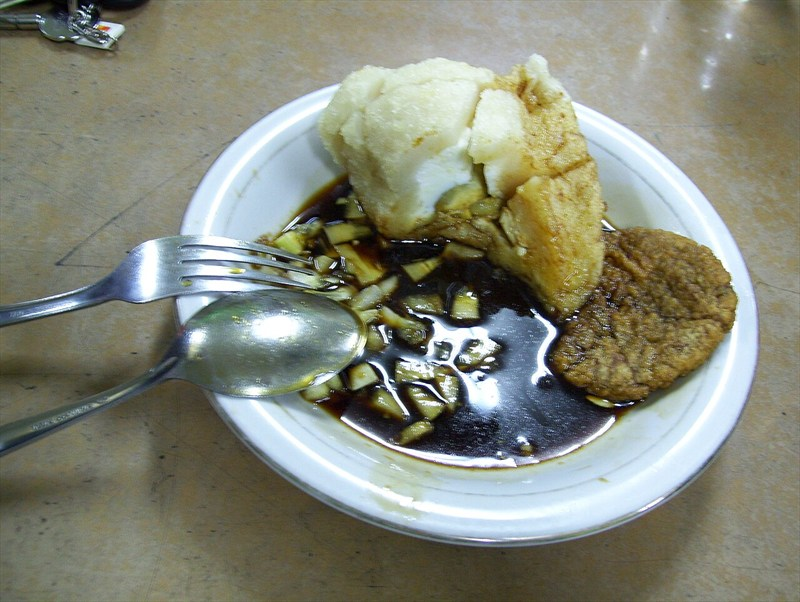Pempek: (157, 94, 743, 528)
